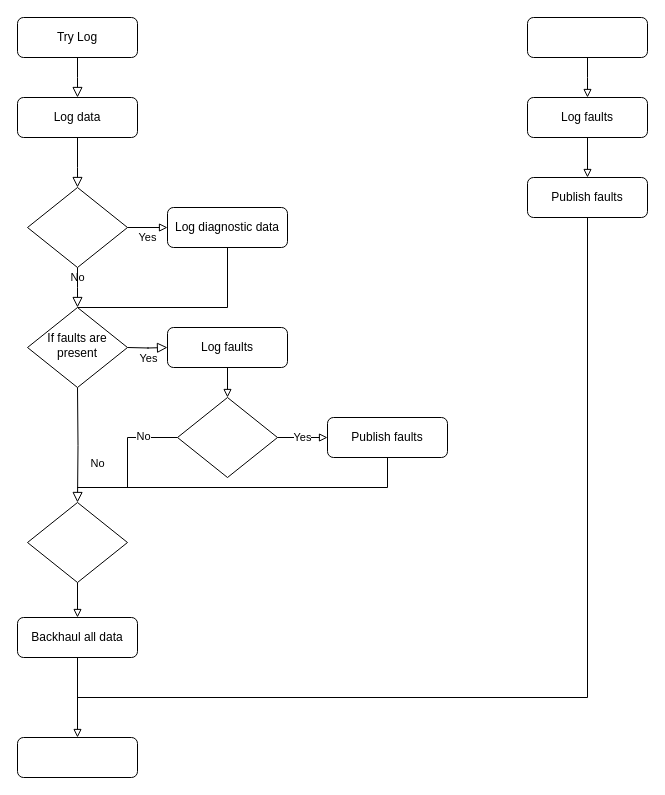
Image size: 665x795. Some labels were removed from this diagram. The shapes that lost their labels are listed below. From the top down, each one's centre as x and y in pixels, then its label:
the point at 587,37: Asynchronous fault
the point at 77,227: Diagnostic interval exceeded
the point at 227,437: If faults are critical
the point at 77,542: If backhaul interval exceeded
the point at 77,757: Sleep
